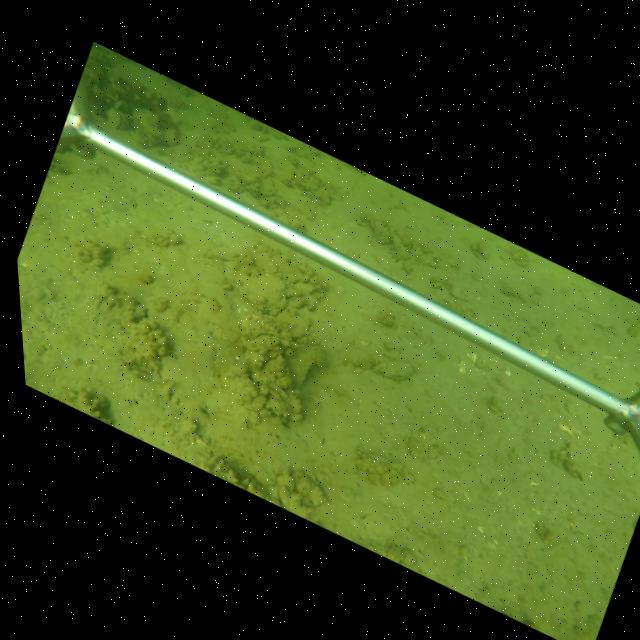Oyster-Closed: (372, 358, 414, 381), (245, 329, 283, 354)
Oyster-Indeterminate: (231, 273, 288, 317), (282, 349, 317, 392)
Oyster-Open: (105, 105, 129, 129)
